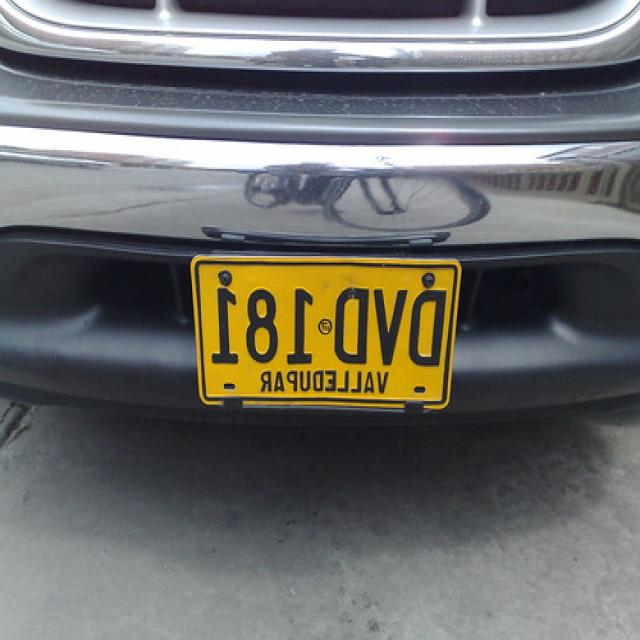placas: (199, 274, 453, 374)
